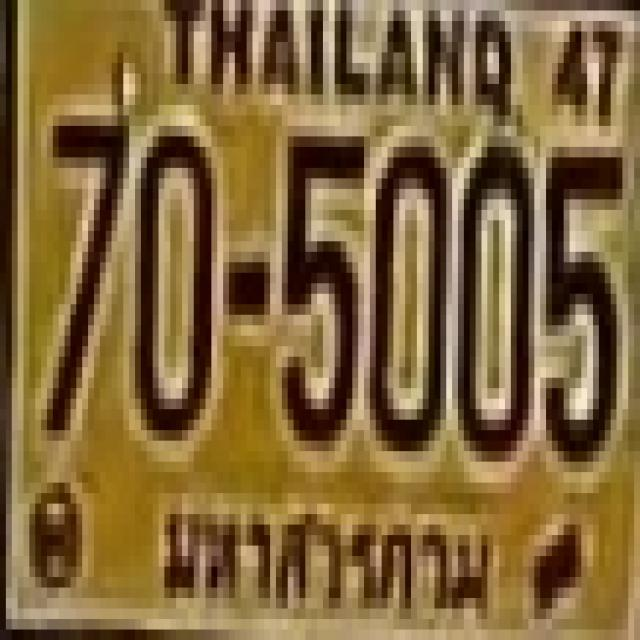0: (130, 116, 212, 430), (367, 136, 443, 441), (458, 136, 528, 452)
5: (279, 126, 361, 441), (543, 147, 620, 451)
7: (44, 110, 126, 425)
MKM: (148, 492, 503, 626)
